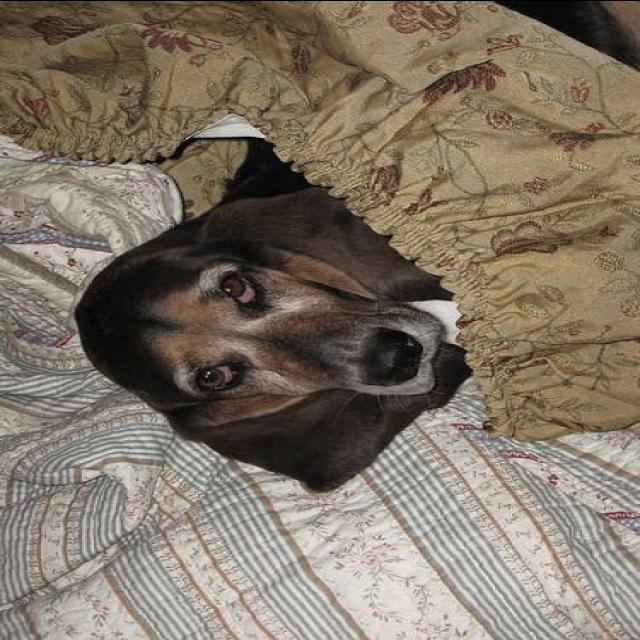basset: (74, 134, 476, 497)
